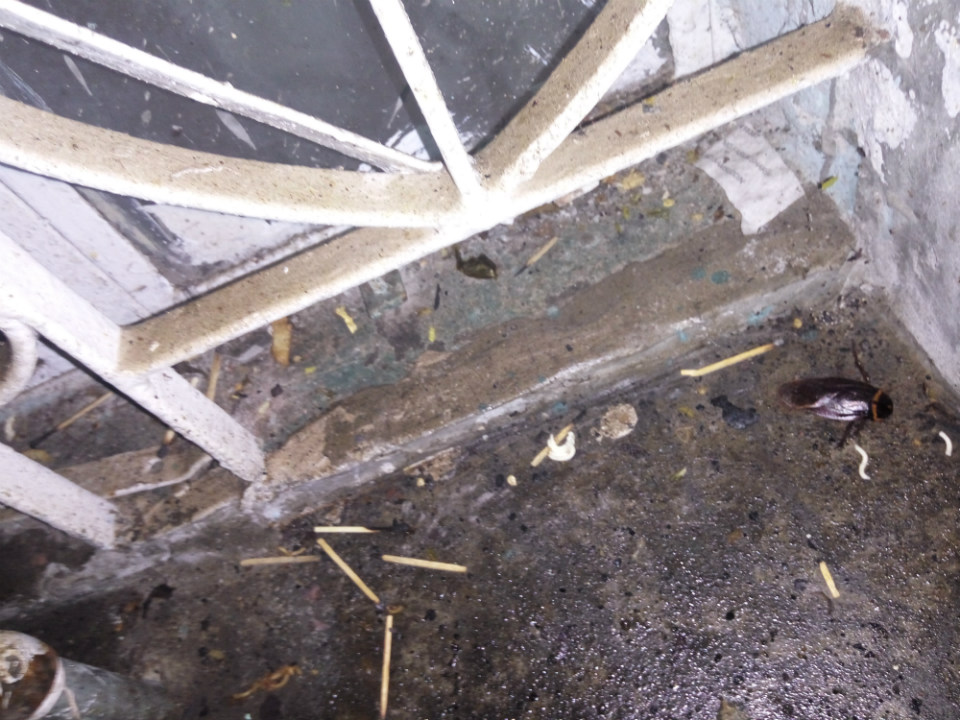cockroach: (764, 364, 927, 445)
